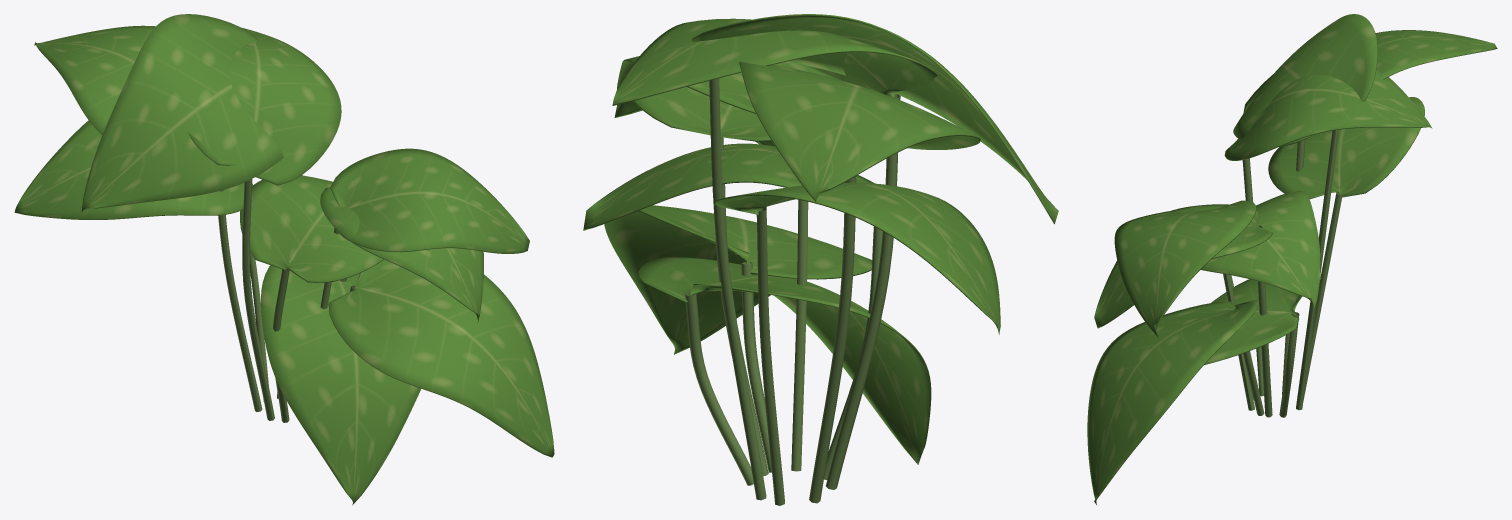
File: pothos-stage-3-v06.glb
The picture shows the model from 3 angles, left to right: view 1: azimuth 30°, elevation 25°; view 2: azimuth 150°, elevation 25°; view 3: azimuth 270°, elevation 25°; orthographic projection. The views are drawn at different scales.
Parts seen in each view (by area): view 1: V06 pothos-stage-3 Leaf_2, V06 pothos-stage-3 Leaf_8, V06 pothos-stage-3 Leaf_5, V06 pothos-stage-3 Leaf_3, V06 pothos-stage-3 Leaf_1, V06 pothos-stage-3 Leaf_6, V06 pothos-stage-3 Leaf_7, V06 pothos-stage-3 Leaf_4, V06 pothos-stage-3 Leaf_0, V06 pothos-stage-3 Petiole_1, V06 pothos-stage-3 Petiole_4, V06 pothos-stage-3 Petiole_6 (+1 smaller); view 2: V06 pothos-stage-3 Leaf_4, V06 pothos-stage-3 Leaf_8, V06 pothos-stage-3 Leaf_5, V06 pothos-stage-3 Leaf_1, V06 pothos-stage-3 Leaf_7, V06 pothos-stage-3 Leaf_2, V06 pothos-stage-3 Leaf_6, V06 pothos-stage-3 Petiole_2, V06 pothos-stage-3 Leaf_0, V06 pothos-stage-3 Petiole_4, V06 pothos-stage-3 Petiole_1, V06 pothos-stage-3 Petiole_7 (+6 smaller); view 3: V06 pothos-stage-3 Leaf_8, V06 pothos-stage-3 Leaf_3, V06 pothos-stage-3 Leaf_1, V06 pothos-stage-3 Leaf_7, V06 pothos-stage-3 Leaf_6, V06 pothos-stage-3 Leaf_2, V06 pothos-stage-3 Leaf_5, V06 pothos-stage-3 Leaf_4, V06 pothos-stage-3 Leaf_0, V06 pothos-stage-3 Petiole_2, V06 pothos-stage-3 Petiole_7, V06 pothos-stage-3 Petiole_0 (+4 smaller).
Boxes of the visible parts, x1,y1,x2,y2 form: V06 pothos-stage-3 Leaf_2: (81, 14, 283, 212); V06 pothos-stage-3 Leaf_8: (328, 259, 554, 457); V06 pothos-stage-3 Leaf_5: (261, 265, 420, 505); V06 pothos-stage-3 Leaf_3: (330, 148, 529, 253); V06 pothos-stage-3 Leaf_1: (188, 28, 341, 185); V06 pothos-stage-3 Leaf_6: (240, 175, 383, 282); V06 pothos-stage-3 Leaf_7: (14, 120, 252, 219); V06 pothos-stage-3 Leaf_4: (34, 25, 155, 134); V06 pothos-stage-3 Leaf_0: (320, 187, 483, 322); V06 pothos-stage-3 Petiole_1: (242, 179, 274, 420); V06 pothos-stage-3 Petiole_4: (218, 190, 262, 411); V06 pothos-stage-3 Petiole_6: (273, 268, 289, 422); V06 pothos-stage-3 Leaf_4: (739, 61, 980, 201); V06 pothos-stage-3 Leaf_8: (604, 205, 872, 354); V06 pothos-stage-3 Leaf_5: (638, 256, 931, 464); V06 pothos-stage-3 Leaf_1: (612, 18, 937, 105); V06 pothos-stage-3 Leaf_7: (715, 182, 1000, 334); V06 pothos-stage-3 Leaf_2: (691, 14, 1058, 224); V06 pothos-stage-3 Leaf_6: (583, 143, 874, 230); V06 pothos-stage-3 Petiole_2: (709, 78, 766, 500); V06 pothos-stage-3 Leaf_0: (623, 70, 774, 146); V06 pothos-stage-3 Petiole_4: (809, 176, 856, 503); V06 pothos-stage-3 Petiole_1: (826, 94, 900, 489); V06 pothos-stage-3 Petiole_7: (756, 207, 784, 505); V06 pothos-stage-3 Leaf_8: (1087, 299, 1258, 504); V06 pothos-stage-3 Leaf_3: (1114, 200, 1256, 336); V06 pothos-stage-3 Leaf_1: (1224, 68, 1432, 160); V06 pothos-stage-3 Leaf_7: (1268, 97, 1424, 198); V06 pothos-stage-3 Leaf_6: (1201, 190, 1320, 309); V06 pothos-stage-3 Leaf_2: (1233, 14, 1377, 146); V06 pothos-stage-3 Leaf_5: (1204, 279, 1302, 364); V06 pothos-stage-3 Leaf_4: (1375, 30, 1497, 79); V06 pothos-stage-3 Leaf_0: (1094, 204, 1272, 328); V06 pothos-stage-3 Petiole_2: (1296, 129, 1338, 410); V06 pothos-stage-3 Petiole_7: (1303, 192, 1342, 399); V06 pothos-stage-3 Petiole_0: (1258, 225, 1272, 417).
Bounding box in the file's own units: 1.5 × 1.52 × 1.45.
2 materials, 1 textured.
